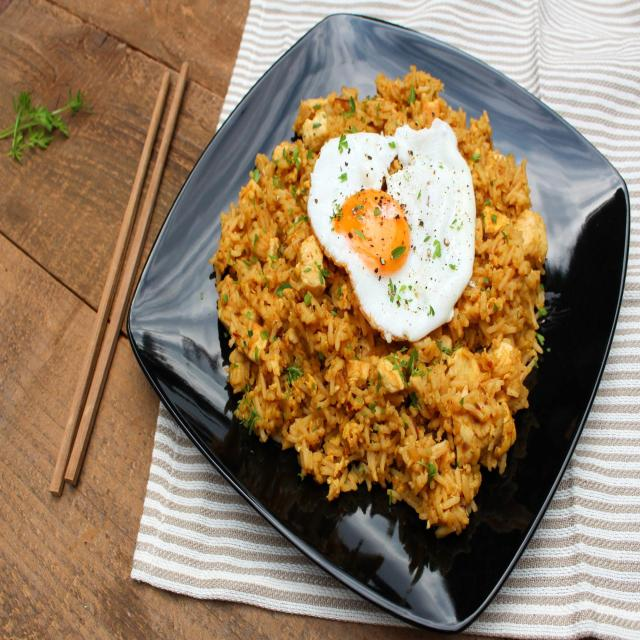Nasi Goreng: (221, 115, 549, 486)
